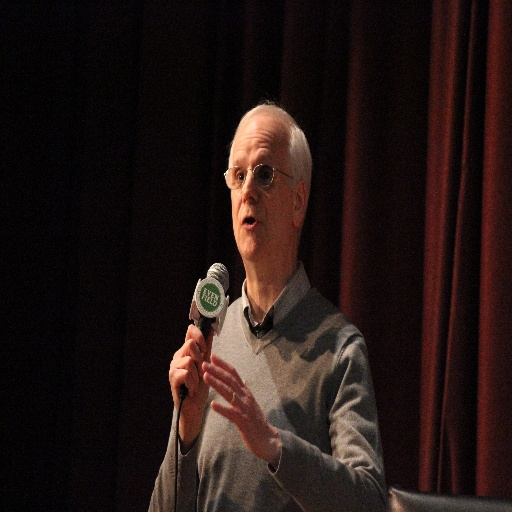hand: (201, 353, 271, 464), (168, 329, 215, 440)
